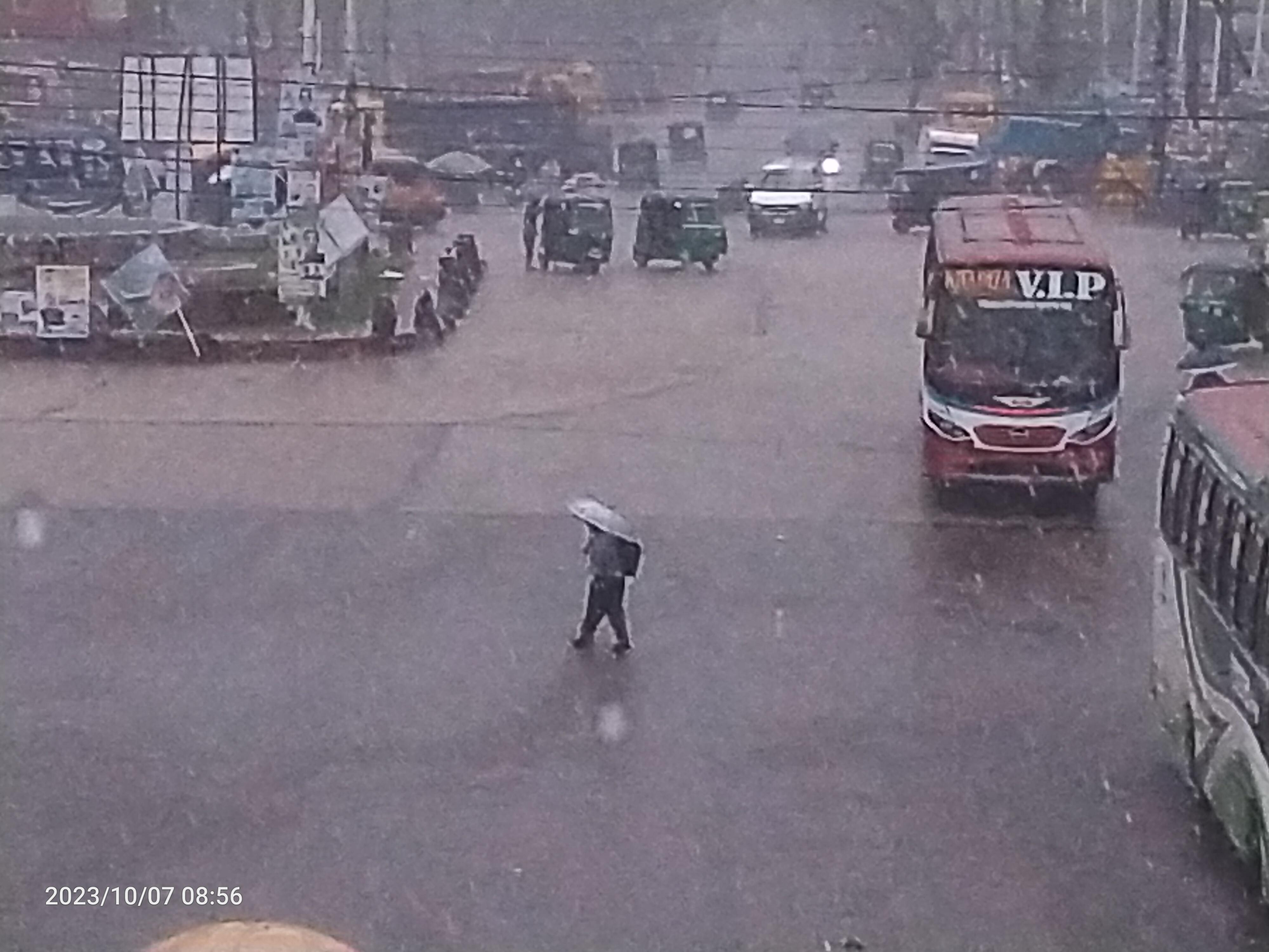Bus: (1109, 347, 1269, 932), (902, 175, 1148, 542)
Car: (733, 140, 841, 258)
